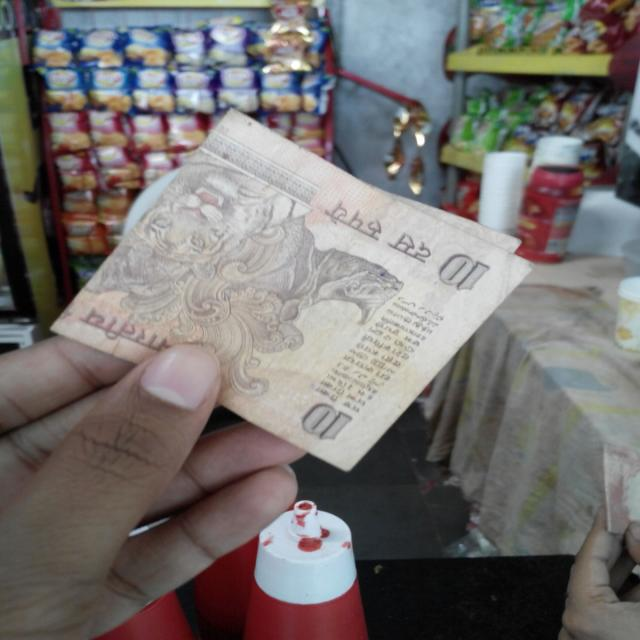10rs: (49, 93, 532, 476)
